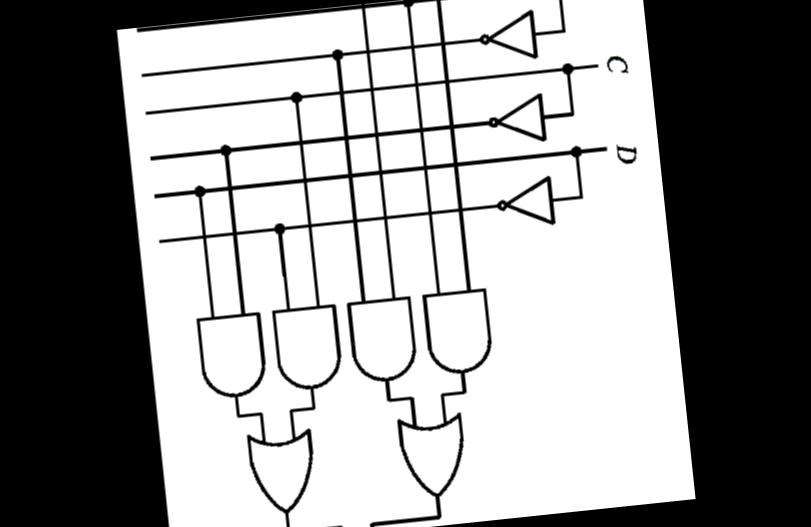and: (411, 268, 508, 386), (339, 276, 426, 395), (264, 286, 352, 403), (189, 294, 275, 410)
not: (475, 78, 560, 155), (485, 164, 569, 238), (465, 0, 549, 68)
or: (226, 415, 340, 527), (384, 400, 481, 510)
